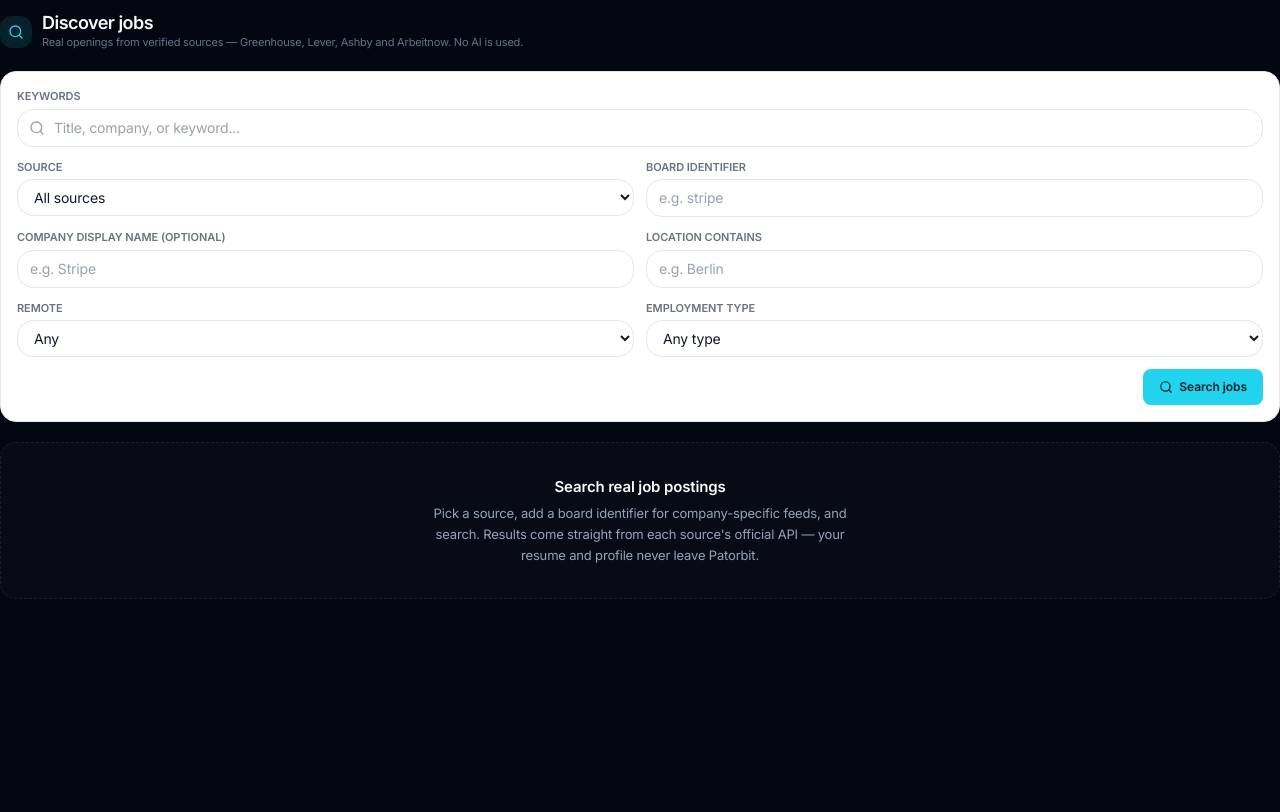
Test: JobDiscoveryPanel › renders server validation errors (400) in the error state
The image size is (1280, 812).
Click the button "Search jobs": (1203, 387) [1143,369,1263,405]
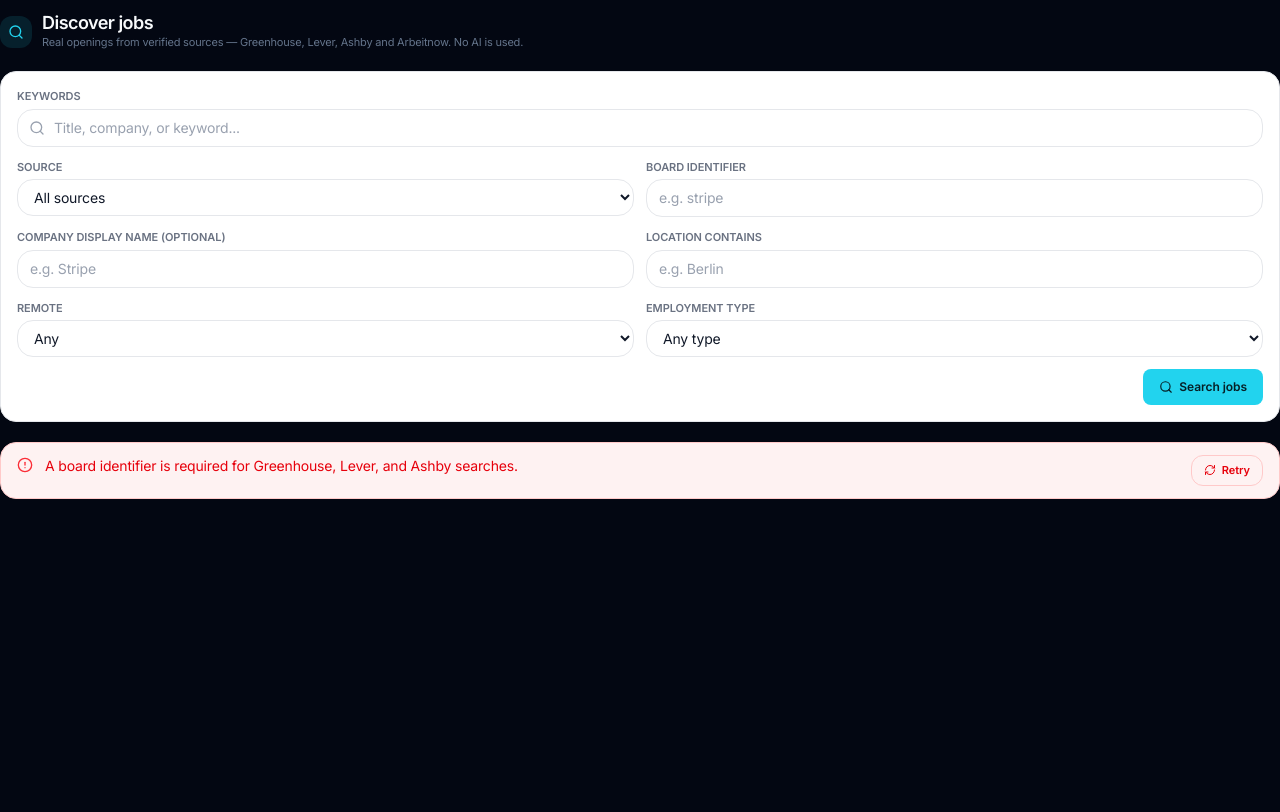
Expected: the text "A board identifier is required" is shown, [45,457,518,474]
Expected: the message is shown, [0,442,1279,499]
